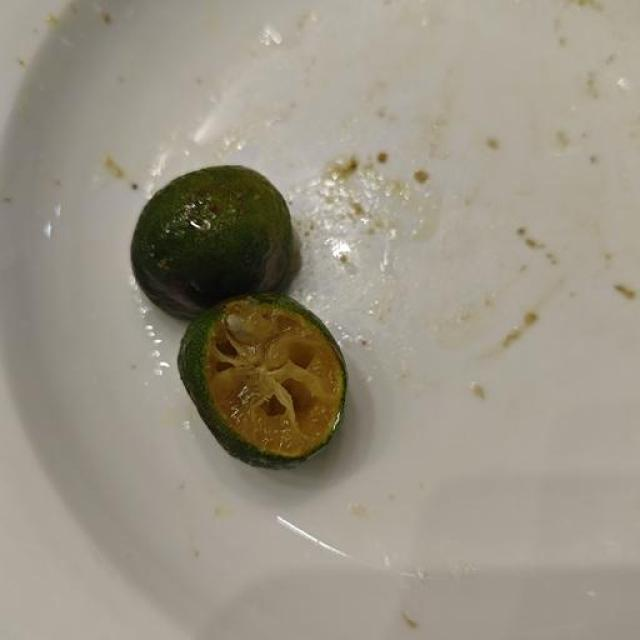organic: (132, 167, 347, 468), (178, 294, 347, 468), (132, 167, 292, 318)
